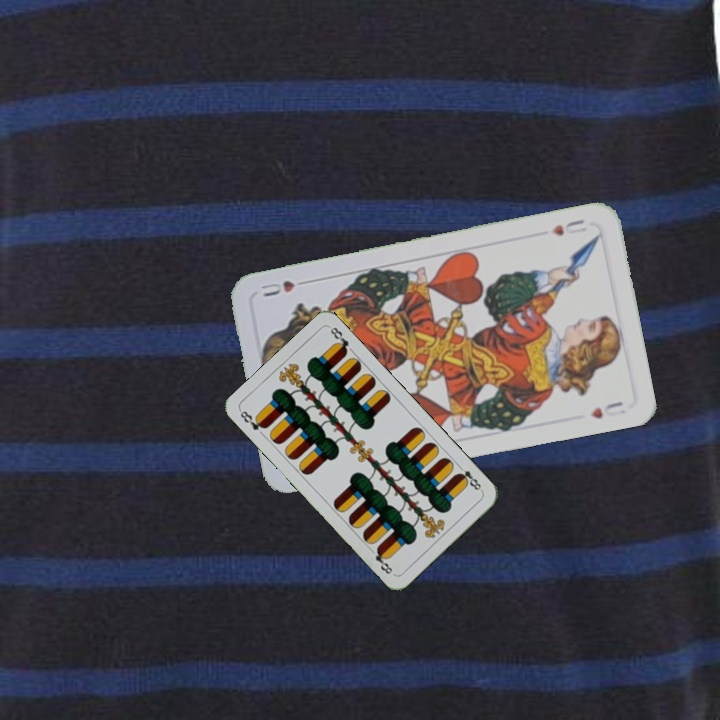E8: (453, 461, 485, 494), (235, 407, 269, 433)
HU: (547, 215, 589, 238)
